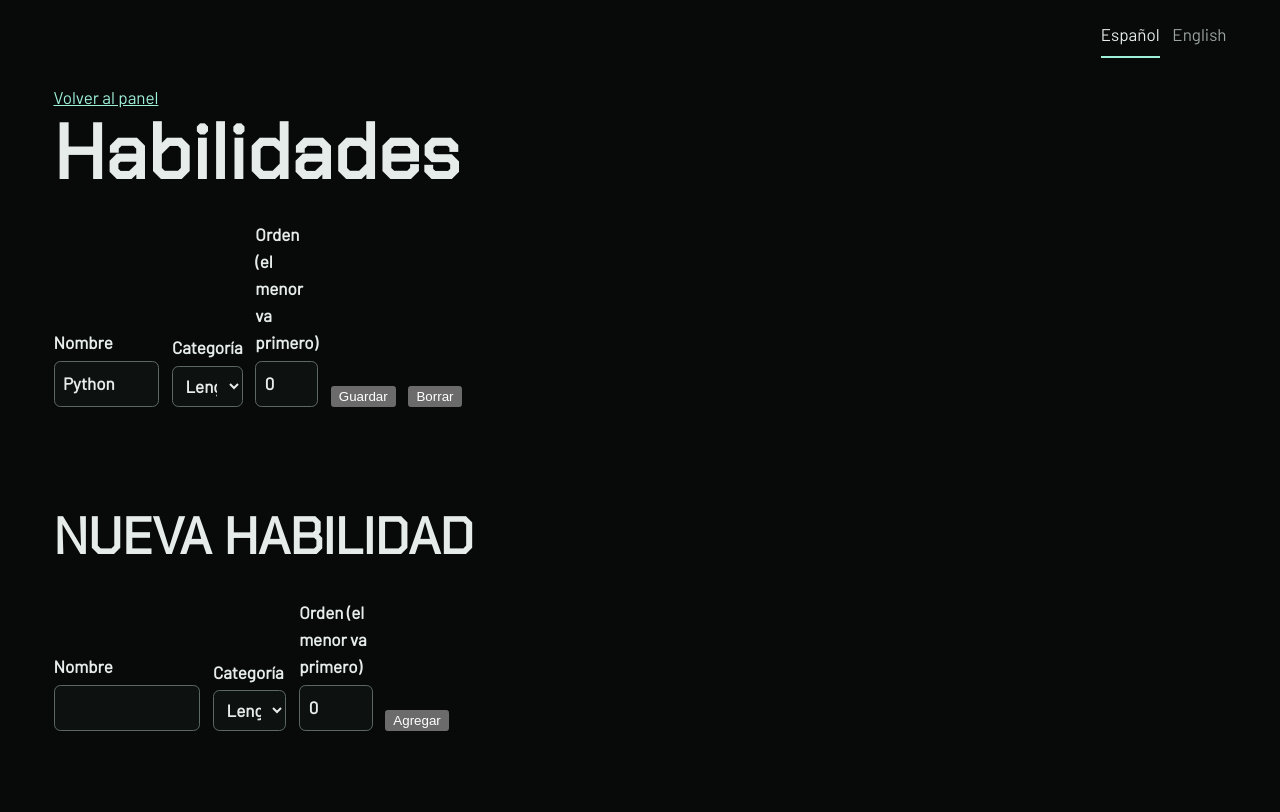
Scenario: admin panel: profile, skills and experience › edits and deletes an existing skill
Later steps or results of the test are not shown.
Step 1. Replace the text in the 1st field labelled "Nombre" with "Python 3" → coordinates (106, 384), box [54,361,159,407]
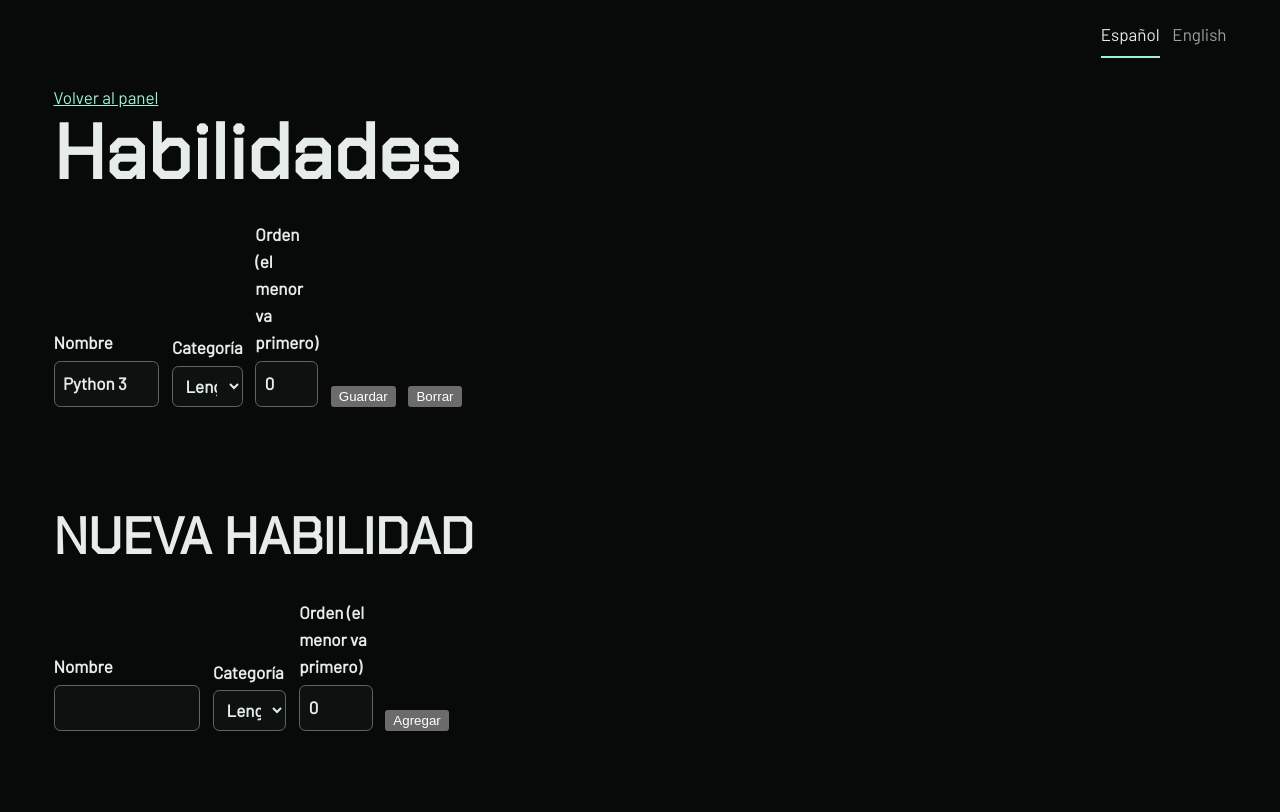
Step 2. Click the button "Guardar" → coordinates (363, 396), box [331,386,396,407]
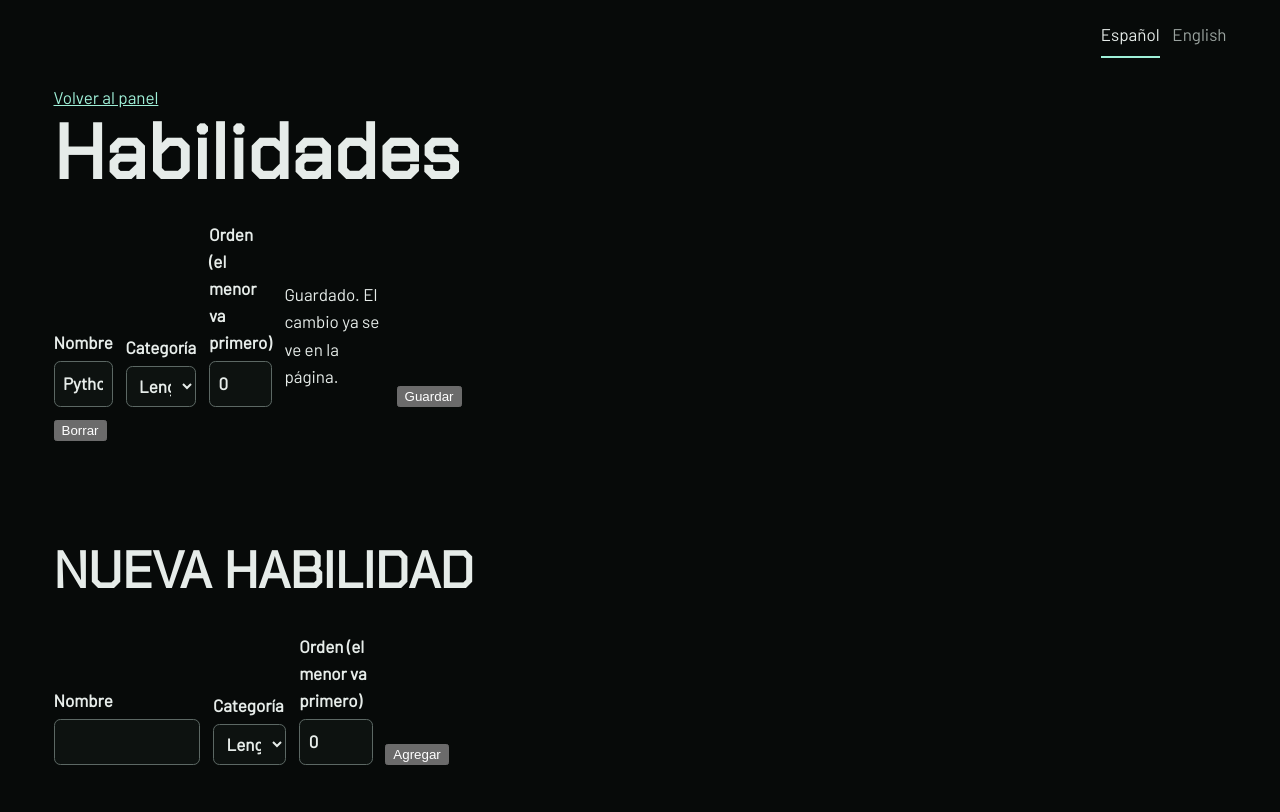
Result: the message shows "Guardado" at [284,284,379,386]
